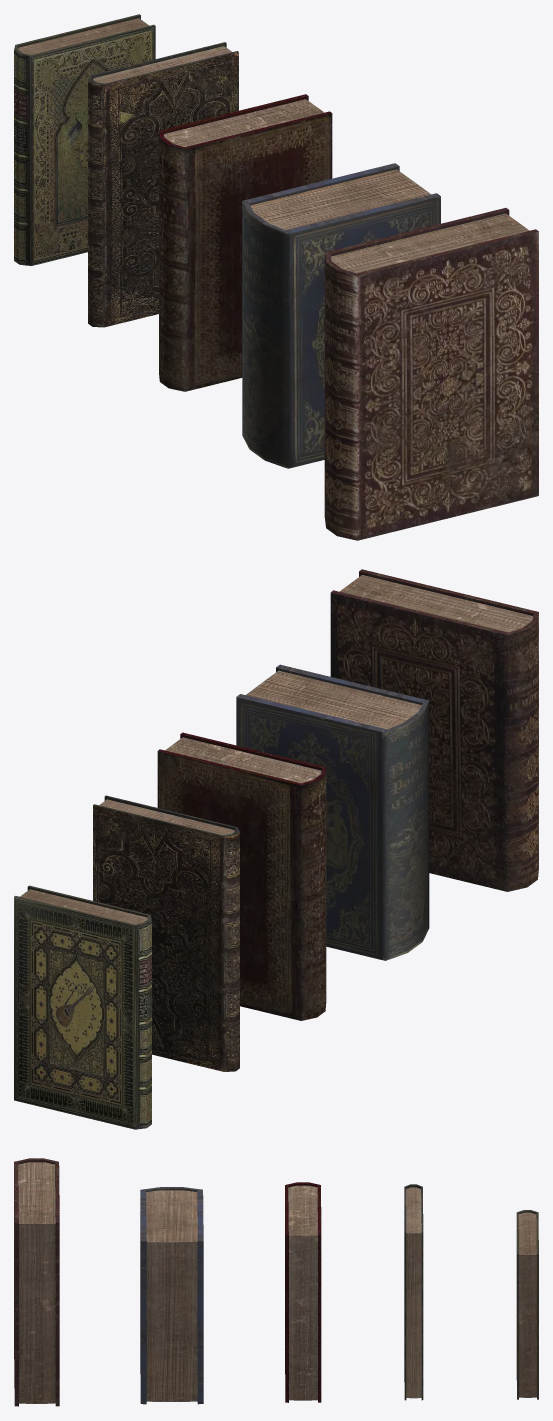
Rendered from coti_shabby_books.glb.
The picture shows the model from 3 angles, top to bottom: view 1: azimuth 30°, elevation 25°; view 2: azimuth 150°, elevation 25°; view 3: azimuth 270°, elevation 25°; orthographic projection. The views are drawn at different scales.
Visible parts, largest first — view 1: Object001_Object001_mtl_0; view 2: Object001_Object001_mtl_0; view 3: Object001_Object001_mtl_0.
Boxes of the visible parts, <box> form: Object001_Object001_mtl_0: <box>14,14,538,540</box>; Object001_Object001_mtl_0: <box>14,569,538,1129</box>; Object001_Object001_mtl_0: <box>14,1158,538,1406</box>.
Size of the model in its own units: 0.1169 by 0.1545 by 0.4.
7 materials, 7 textured.
